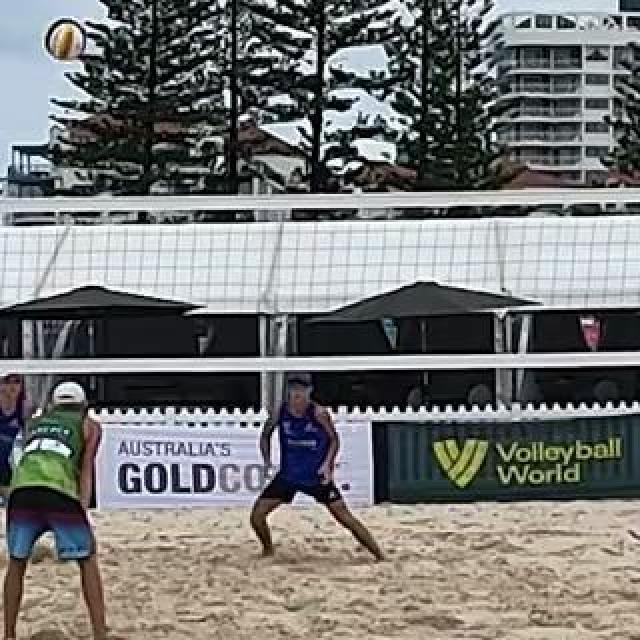volleyball: (44, 18, 86, 62)
